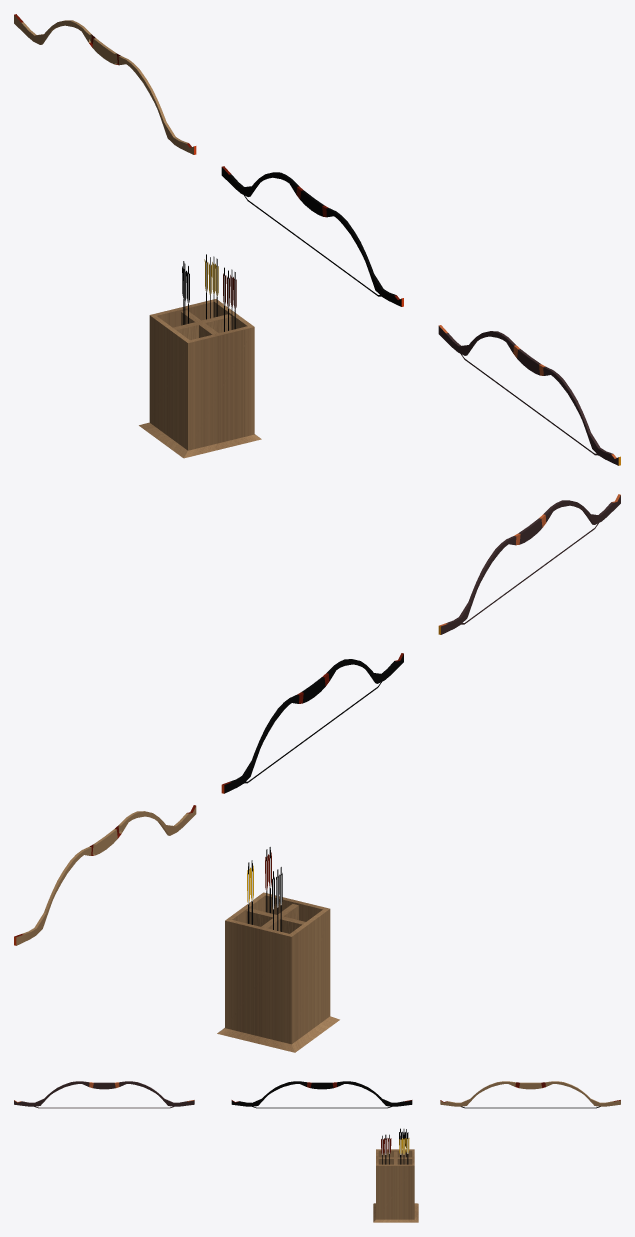
File: archery.glb
3 renders of one model, top to bottom at view 1: azimuth 30°, elevation 25°; view 2: azimuth 150°, elevation 25°; view 3: azimuth 270°, elevation 25°, orthographic. The views are drawn at different scales.
Parts seen in each view (by area): view 1: Archery_2, Archery; view 2: Archery_2, Archery; view 3: Archery, Archery_2.
Part boxes in pixels (x1=…): Archery_2: x1=139, y1=254, x2=261, y2=458; Archery: x1=14, y1=14, x2=620, y2=465; Archery_2: x1=217, y1=847, x2=339, y2=1052; Archery: x1=14, y1=494, x2=620, y2=945; Archery: x1=14, y1=1081, x2=620, y2=1108; Archery_2: x1=373, y1=1128, x2=418, y2=1222.
Size of the model in its own units: 0.4448 by 1.5 by 5.85.
Materials: 2 (2 with a texture image).
